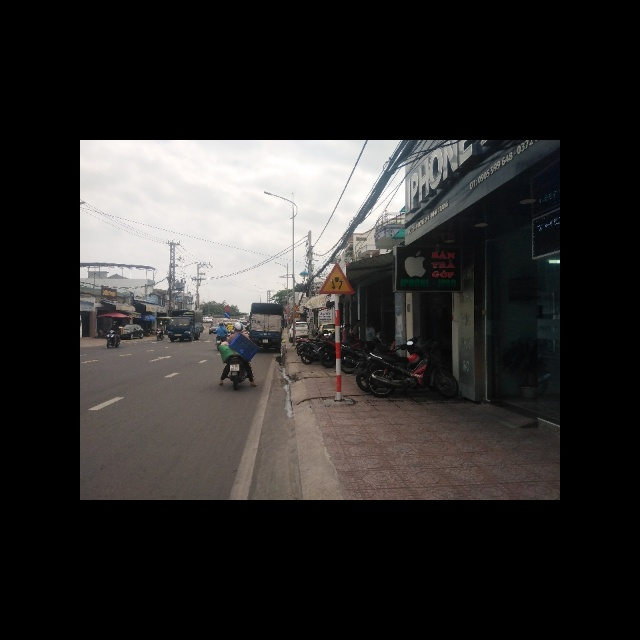Đường đôi: (320, 260, 357, 294)
